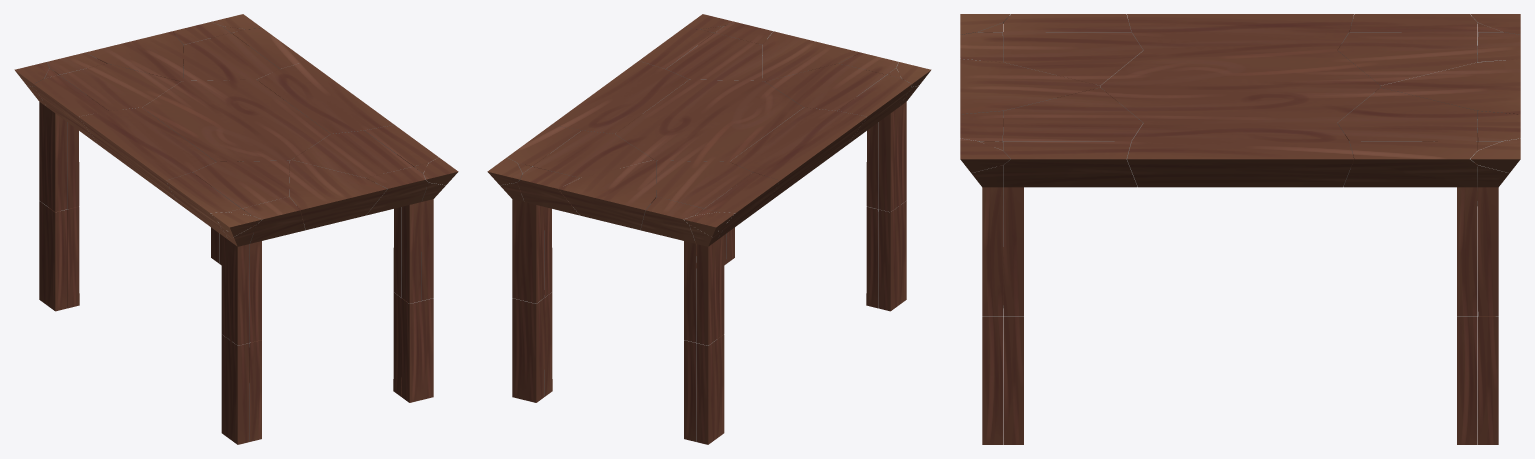
Rendered from mesaLong_gibs.fbx.
3 renders of one model, left to right at view 1: azimuth 30°, elevation 25°; view 2: azimuth 150°, elevation 25°; view 3: azimuth 270°, elevation 25°, orthographic. The views are drawn at different scales.
Parts seen in each view (by area): view 1: mesinhaLong_cell.040, mesinhaLong_cell.037, mesinhaLong_cell.039, mesinhaLong_cell.036, mesinhaLong_cell.026, mesinhaLong_cell.017, mesinhaLong_cell.022, mesinhaLong_cell.015, mesinhaLong_cell.008, mesinhaLong_cell.035, mesinhaLong_cell.006, mesinhaLong_cell.004 (+21 smaller); view 2: mesinhaLong_cell.040, mesinhaLong_cell.037, mesinhaLong_cell.039, mesinhaLong_cell.038, mesinhaLong_cell.008, mesinhaLong_cell.035, mesinhaLong_cell.004, mesinhaLong_cell.033, mesinhaLong_cell.026, mesinhaLong_cell.017, mesinhaLong_cell.024, mesinhaLong_cell.022 (+21 smaller); view 3: mesinhaLong_cell.040, mesinhaLong_cell.039, mesinhaLong_cell.013, mesinhaLong_cell.031, mesinhaLong_cell.037, mesinhaLong_cell.017, mesinhaLong_cell.035, mesinhaLong_cell.026, mesinhaLong_cell.008, mesinhaLong_cell.036, mesinhaLong_cell.038, mesinhaLong_cell.030 (+15 smaller).
Part boxes in pixels (<box>): mesinhaLong_cell.040: <box>142,79,330,161</box>; mesinhaLong_cell.037: <box>78,107,215,202</box>; mesinhaLong_cell.039: <box>256,61,394,133</box>; mesinhaLong_cell.036: <box>289,160,387,229</box>; mesinhaLong_cell.026: <box>59,63,180,209</box>; mesinhaLong_cell.017: <box>292,130,412,297</box>; mesinhaLong_cell.022: <box>34,75,108,211</box>; mesinhaLong_cell.015: <box>366,167,428,303</box>; mesinhaLong_cell.008: <box>193,160,289,208</box>; mesinhaLong_cell.035: <box>183,33,279,80</box>; mesinhaLong_cell.006: <box>242,197,305,342</box>; mesinhaLong_cell.004: <box>166,172,240,339</box>; mesinhaLong_cell.040: <box>615,79,803,161</box>; mesinhaLong_cell.037: <box>730,107,867,202</box>; mesinhaLong_cell.039: <box>551,61,689,133</box>; mesinhaLong_cell.038: <box>558,160,656,229</box>; mesinhaLong_cell.008: <box>765,63,886,209</box>; mesinhaLong_cell.035: <box>532,130,653,297</box>; mesinhaLong_cell.004: <box>837,75,911,212</box>; mesinhaLong_cell.033: <box>517,167,579,303</box>; mesinhaLong_cell.026: <box>656,160,752,208</box>; mesinhaLong_cell.017: <box>666,33,762,80</box>; mesinhaLong_cell.024: <box>640,197,703,342</box>; mesinhaLong_cell.022: <box>705,172,779,339</box>; mesinhaLong_cell.040: <box>1100,50,1380,122</box>; mesinhaLong_cell.039: <box>1127,123,1353,187</box>; mesinhaLong_cell.013: <box>1003,141,1137,315</box>; mesinhaLong_cell.031: <box>1343,141,1477,315</box>; mesinhaLong_cell.037: <box>1127,14,1353,50</box>; mesinhaLong_cell.017: <box>1003,87,1143,307</box>; mesinhaLong_cell.035: <box>1337,87,1477,141</box>; mesinhaLong_cell.026: <box>1337,32,1477,205</box>; mesinhaLong_cell.008: <box>1003,32,1143,87</box>; mesinhaLong_cell.036: <box>960,59,1100,115</box>; mesinhaLong_cell.038: <box>1380,59,1520,117</box>; mesinhaLong_cell.030: <box>1478,141,1509,315</box>.
Size of the model in its own units: 200 by 190 by 326.
Materials: 1 (1 with a texture image).
